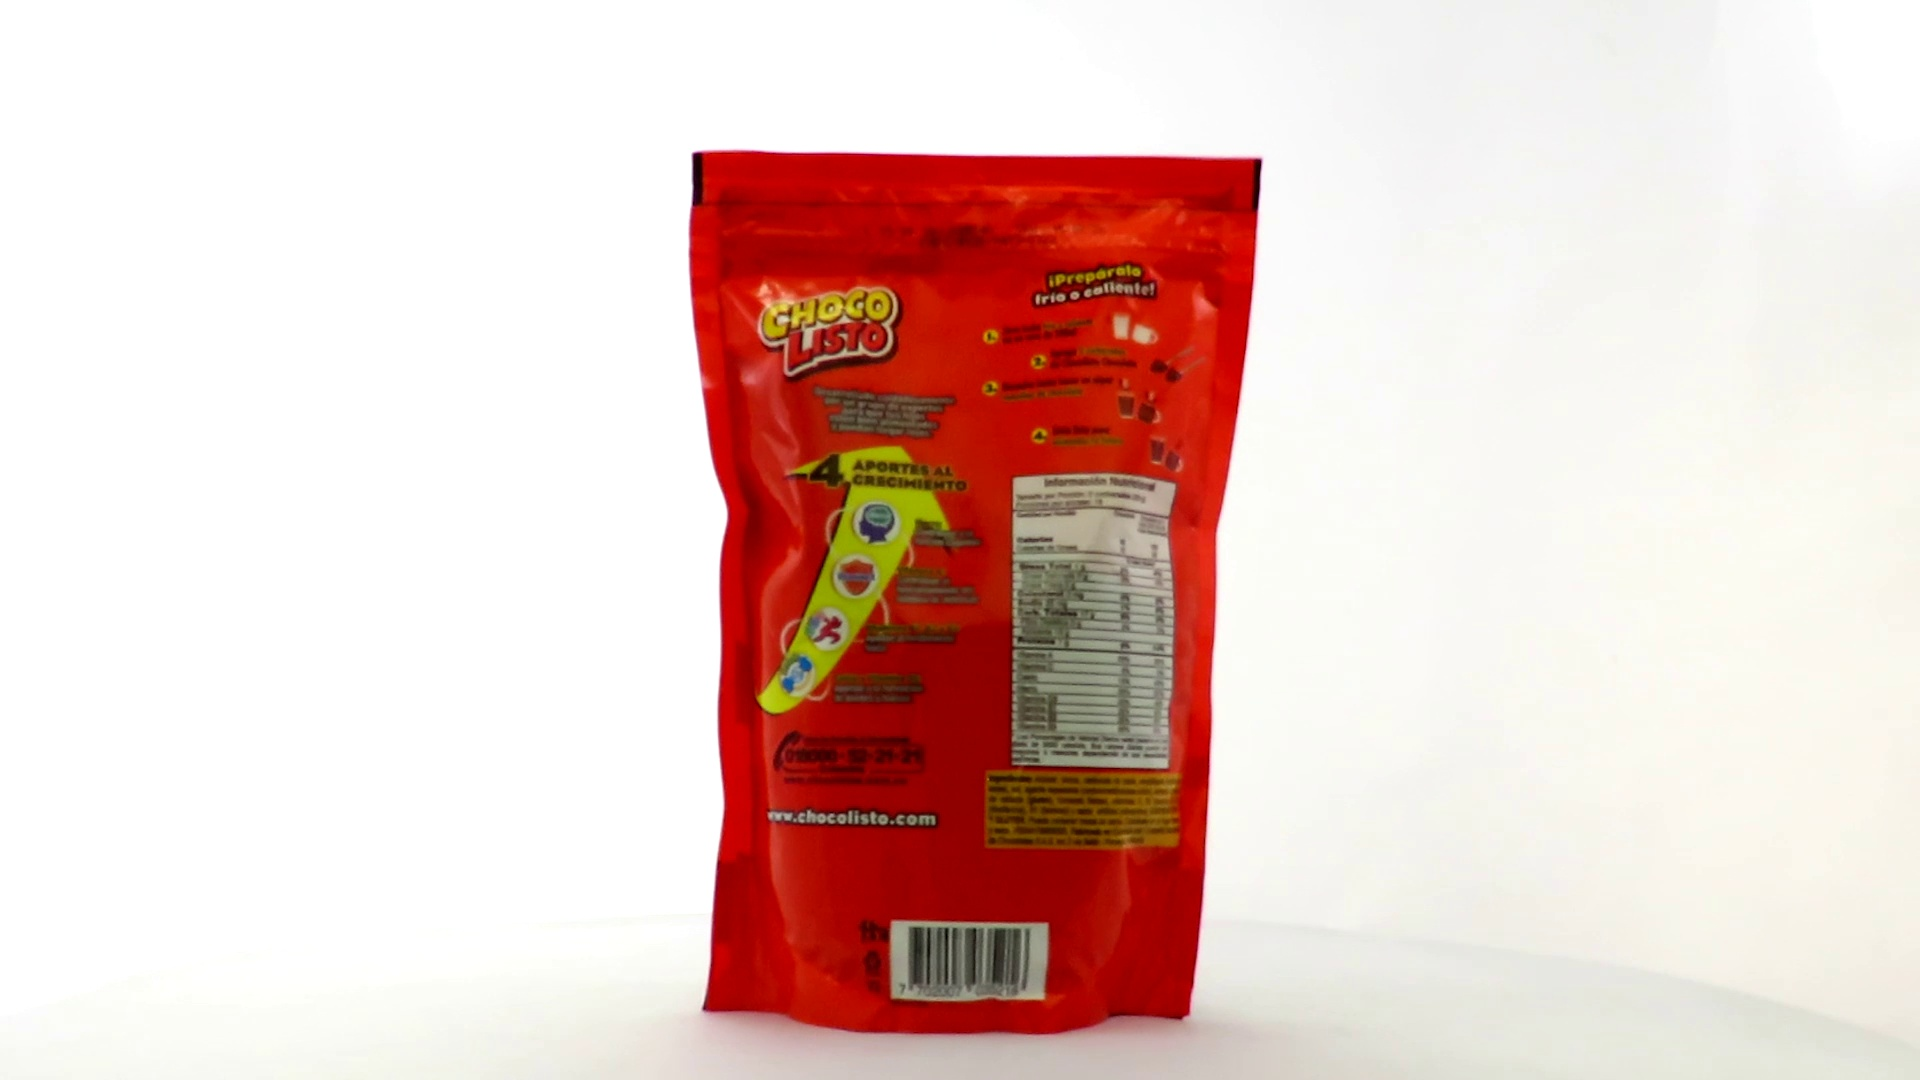COL0170103DYP36000: (684, 145, 1269, 1040)
